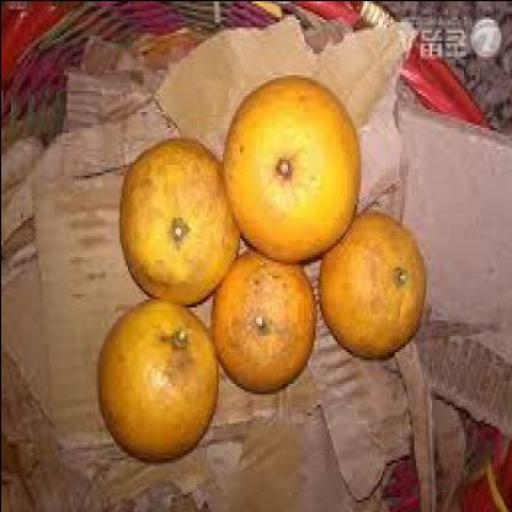biodegradable: (223, 79, 364, 269), (119, 137, 239, 309), (98, 301, 218, 467), (319, 214, 427, 364), (212, 254, 318, 398)
cardboard: (2, 122, 101, 456), (422, 112, 511, 439), (217, 395, 385, 511), (314, 361, 426, 502), (67, 29, 191, 124), (5, 459, 218, 511), (358, 78, 422, 216), (349, 29, 421, 116), (192, 26, 282, 80), (283, 18, 350, 79), (100, 140, 122, 314), (100, 124, 190, 140), (193, 92, 238, 116), (192, 79, 256, 92), (192, 116, 229, 135), (316, 332, 338, 360), (101, 440, 118, 468), (202, 440, 218, 468), (122, 284, 138, 309), (209, 132, 225, 154), (332, 79, 350, 98), (123, 142, 140, 158), (302, 375, 315, 393), (310, 264, 323, 282), (220, 377, 233, 393), (101, 317, 117, 329), (198, 306, 211, 319), (192, 135, 209, 142)
